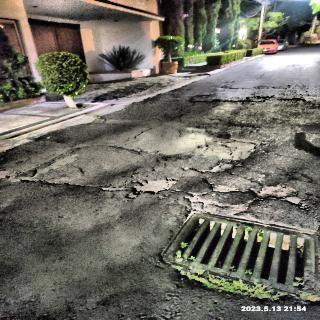alligator-crack: (12, 125, 318, 218)
